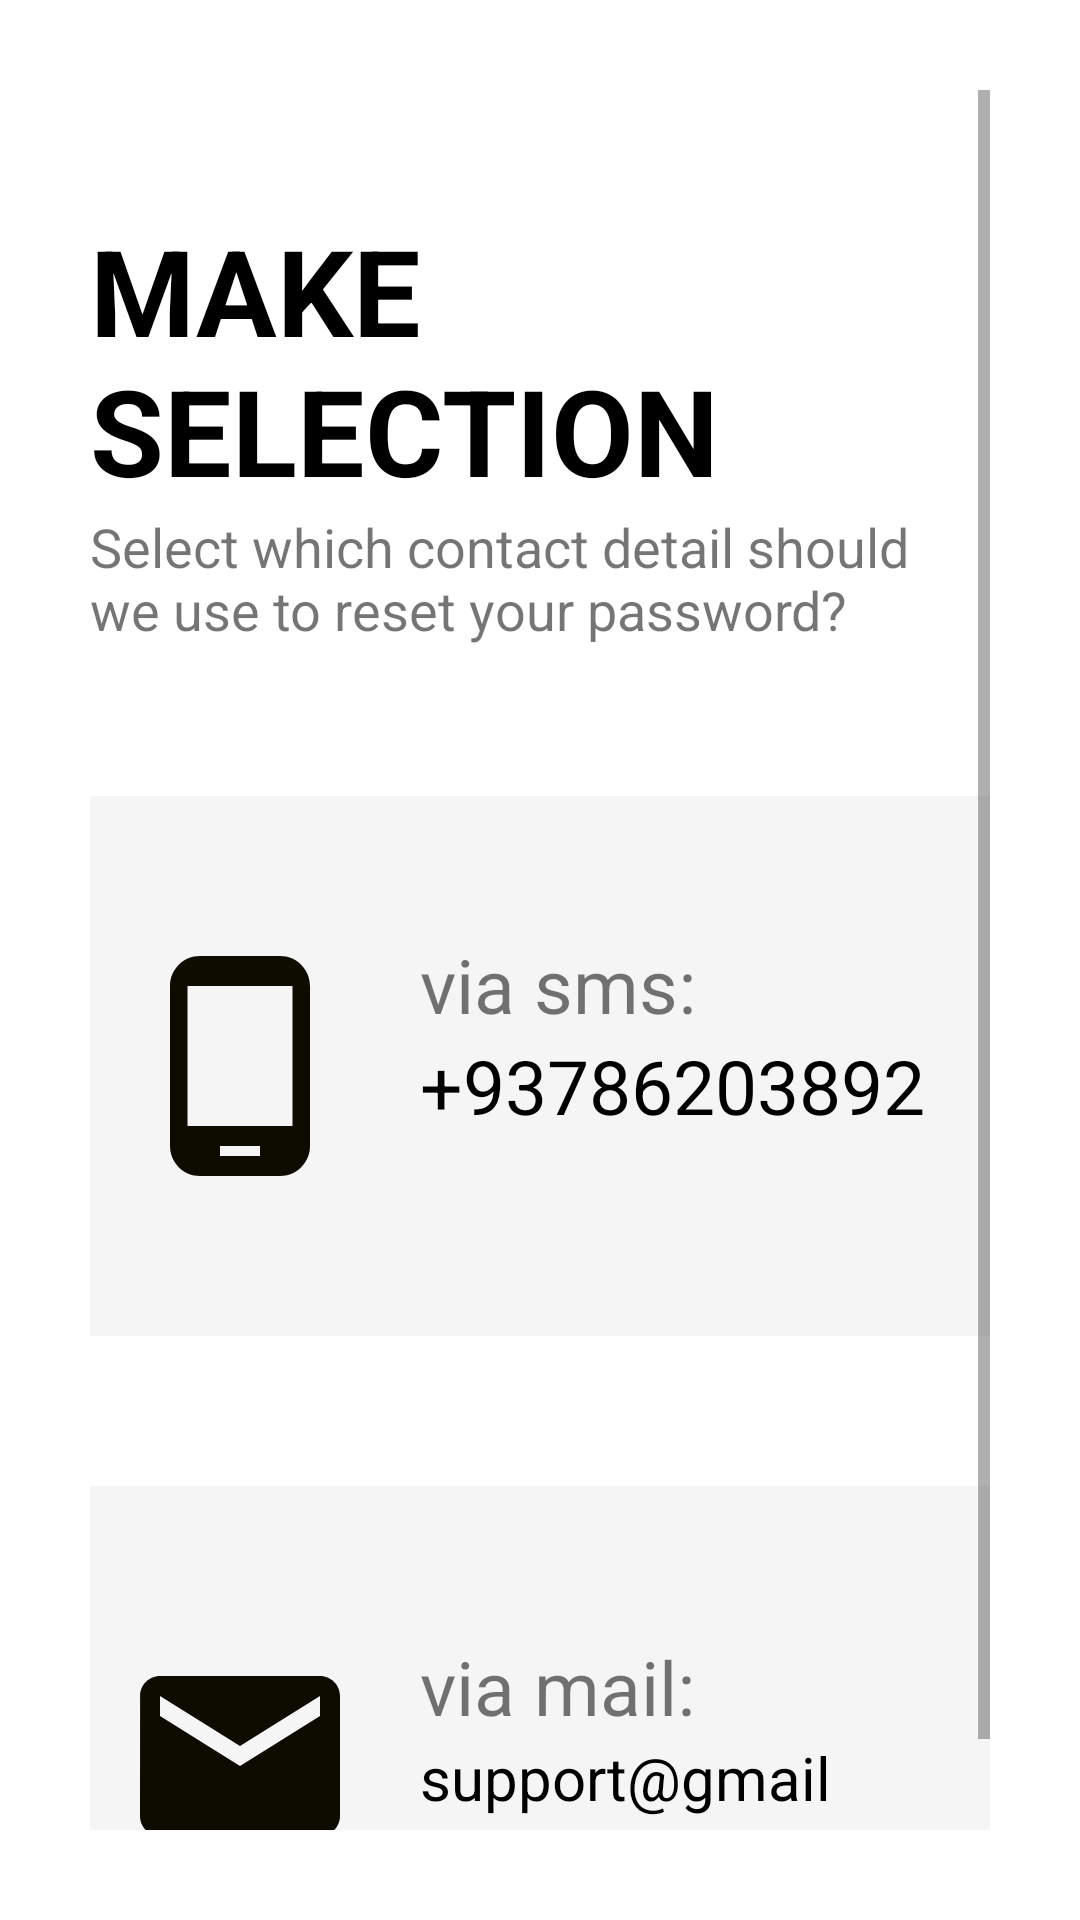

Point at icon controls on the screen. Image size 1080 x 1920, points as point (x, y).
mail custom: point (240, 1753)
mobile custom: point (240, 1066)
